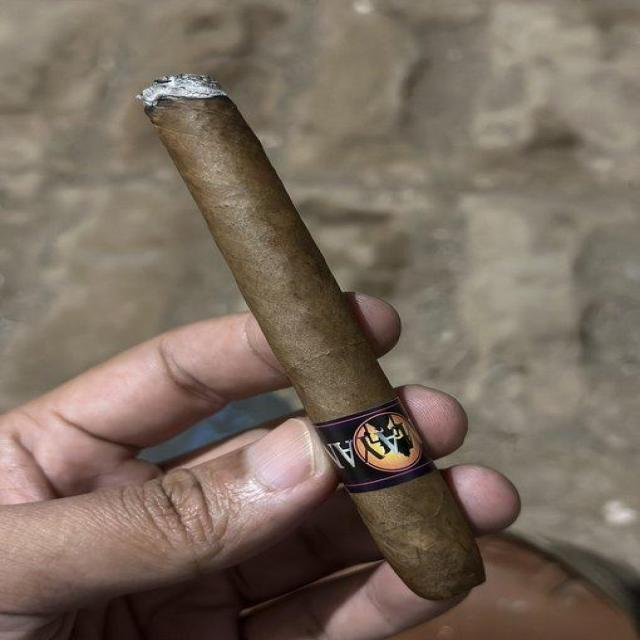rokok: (135, 71, 489, 606)
